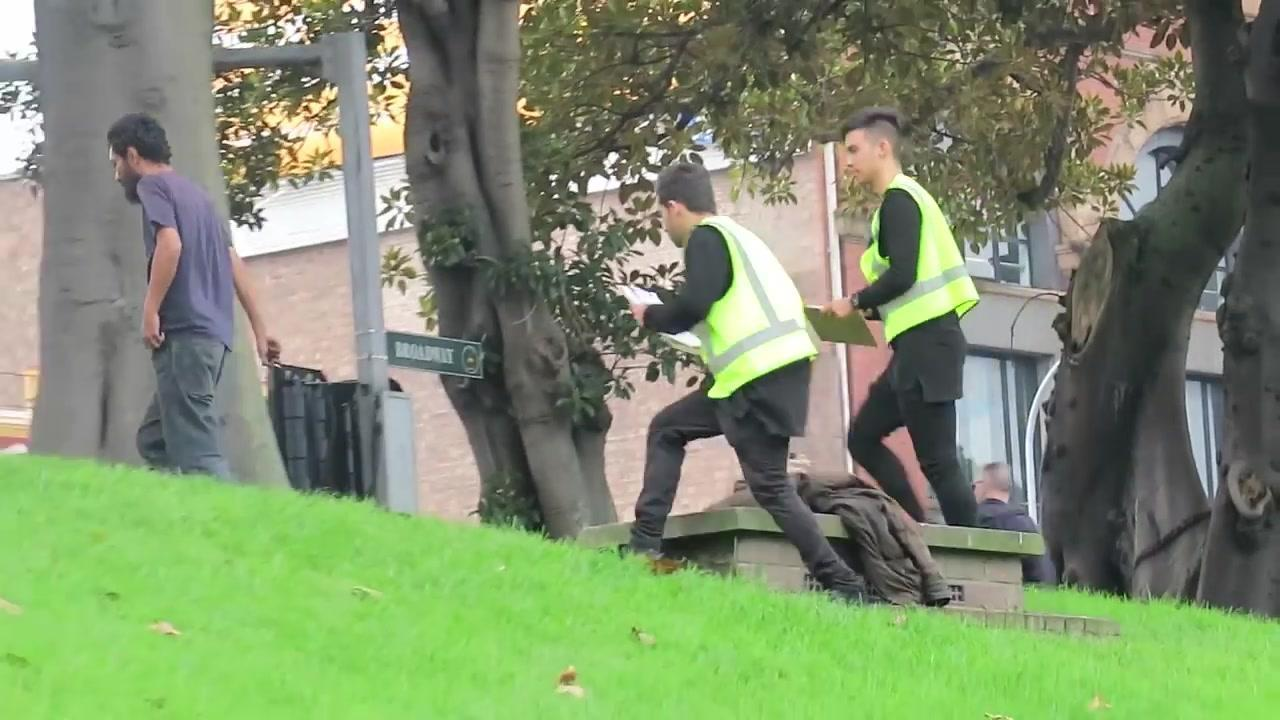vest: (695, 211, 821, 400), (861, 167, 982, 344)
